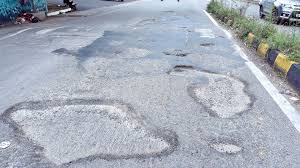potholes: (157, 39, 203, 79)
